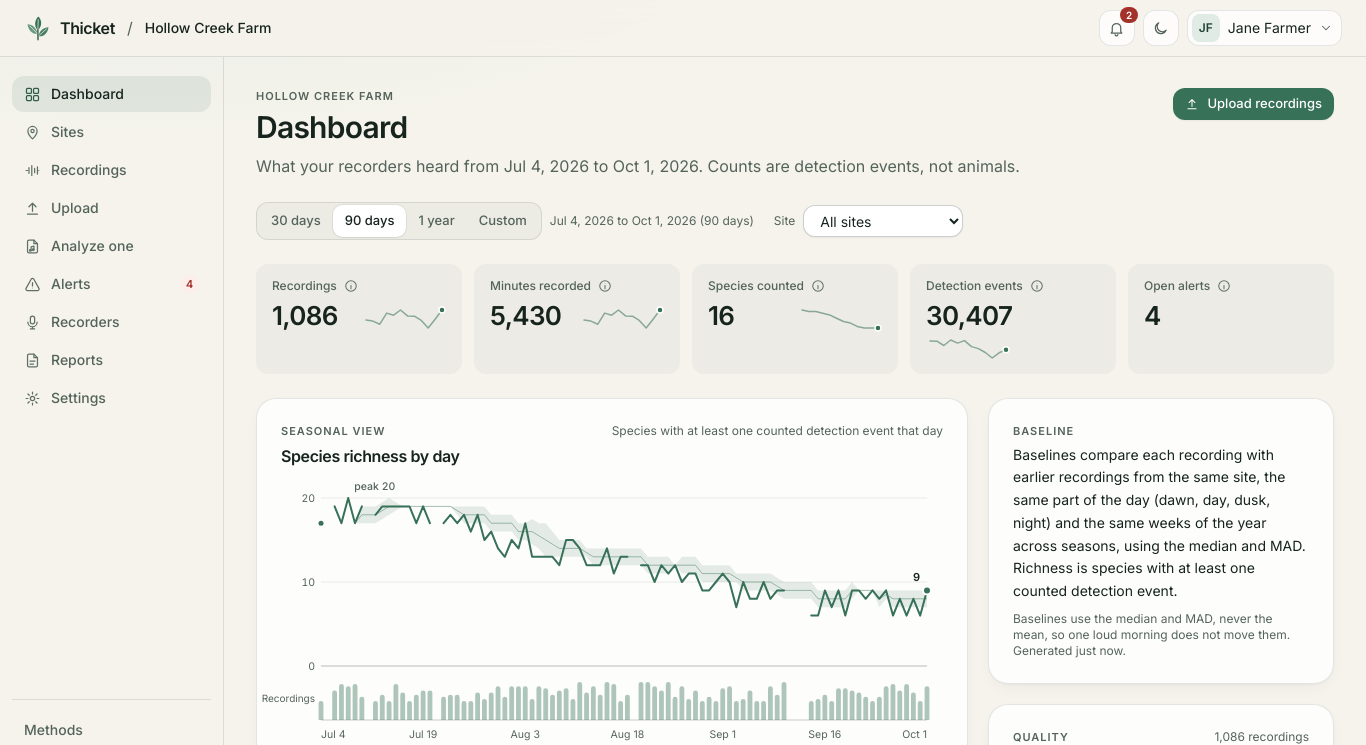
Test case: sign-in flows › sends every mutating request with the CSRF header and routes a 401 back to sign-in
Expected: the heading "Dashboard" is shown, [256,108,408,144]
Click the button with test id "user-menu" at (1264, 28), box [1187,10,1342,46]
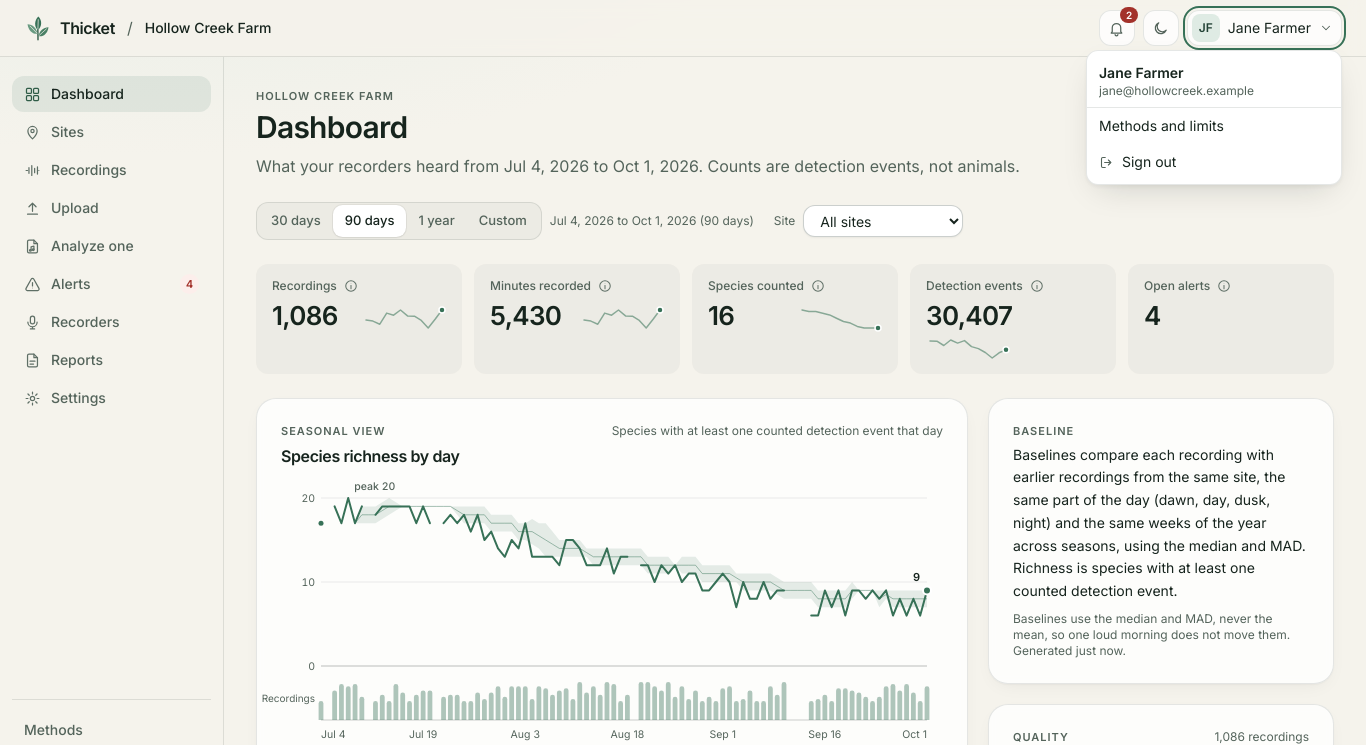
Click the menu item "Sign out" at (1214, 162), box [1087,144,1341,180]
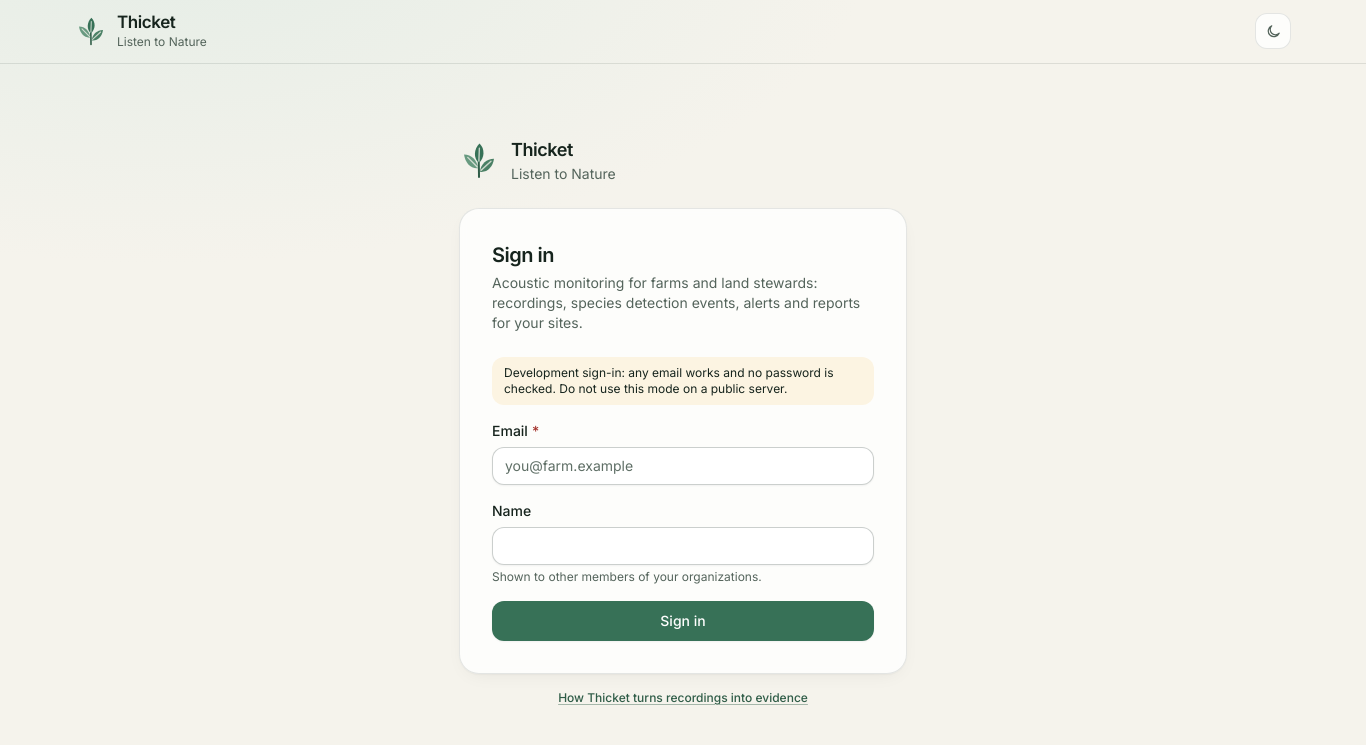
Expected: the heading "Sign in" is shown, [492,243,554,267]
